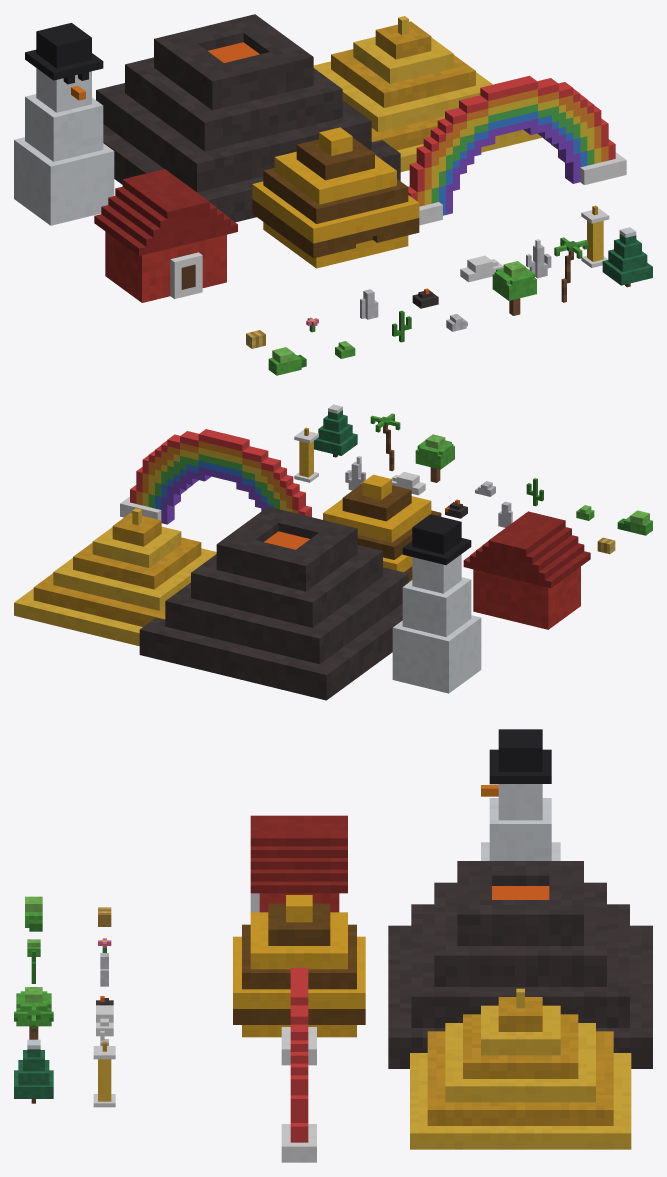
Rendered from EggRunKit.glb.
3 views of the same model, one above another, from view 1: azimuth 30°, elevation 25°; view 2: azimuth 150°, elevation 25°; view 3: azimuth 270°, elevation 25° (orthographic). The views are drawn at different scales.
Visible parts, largest first — view 1: LVolcano, LBeehive, LSnowman, LRainbow, LBarn, LPyramid, VPine, VTree, VPillar, VBush, VPalm, VCloud (+1 smaller); view 2: LVolcano, LPyramid, LSnowman, LBarn, LRainbow, LBeehive, VPine, VTree, VPillar, VBush, VPalm, VCloud (+1 smaller); view 3: LVolcano, LPyramid, LBeehive, LBarn, LSnowman, LRainbow, VPine, VPillar, VTree, VBush.
Boxes of the visible parts, bbox=[...] form: LVolcano: bbox=[96, 14, 400, 222]; LBeehive: bbox=[252, 127, 419, 268]; LSnowman: bbox=[14, 23, 114, 225]; LRainbow: bbox=[408, 75, 626, 225]; LBarn: bbox=[94, 169, 237, 302]; LPyramid: bbox=[313, 16, 542, 171]; VPine: bbox=[602, 227, 652, 287]; VTree: bbox=[492, 261, 536, 315]; VPillar: bbox=[581, 205, 609, 267]; VBush: bbox=[268, 347, 306, 375]; VPalm: bbox=[554, 237, 588, 302]; VCloud: bbox=[460, 255, 503, 282]; LVolcano: bbox=[139, 506, 408, 700]; LPyramid: bbox=[14, 508, 216, 646]; LSnowman: bbox=[392, 514, 481, 693]; LBarn: bbox=[463, 511, 590, 629]; LRainbow: bbox=[120, 429, 311, 524]; LBeehive: bbox=[323, 474, 441, 582]; VPine: bbox=[314, 404, 357, 457]; VTree: bbox=[415, 434, 454, 482]; VPillar: bbox=[294, 427, 318, 482]; VBush: bbox=[617, 510, 652, 535]; VPalm: bbox=[370, 413, 400, 471]; VCloud: bbox=[391, 472, 425, 495]; LVolcano: bbox=[388, 861, 652, 1068]; LPyramid: bbox=[410, 988, 631, 1149]; LBeehive: bbox=[233, 895, 365, 1037]; LBarn: bbox=[250, 815, 347, 912]; LSnowman: bbox=[481, 729, 560, 860]; LRainbow: bbox=[281, 968, 316, 1162]; VPine: bbox=[14, 1039, 53, 1103]; VPillar: bbox=[93, 1041, 115, 1107]; VTree: bbox=[16, 987, 51, 1039]; VBush: bbox=[25, 896, 42, 931].
Bounding box in the file's own units: 142 × 46 × 144.
